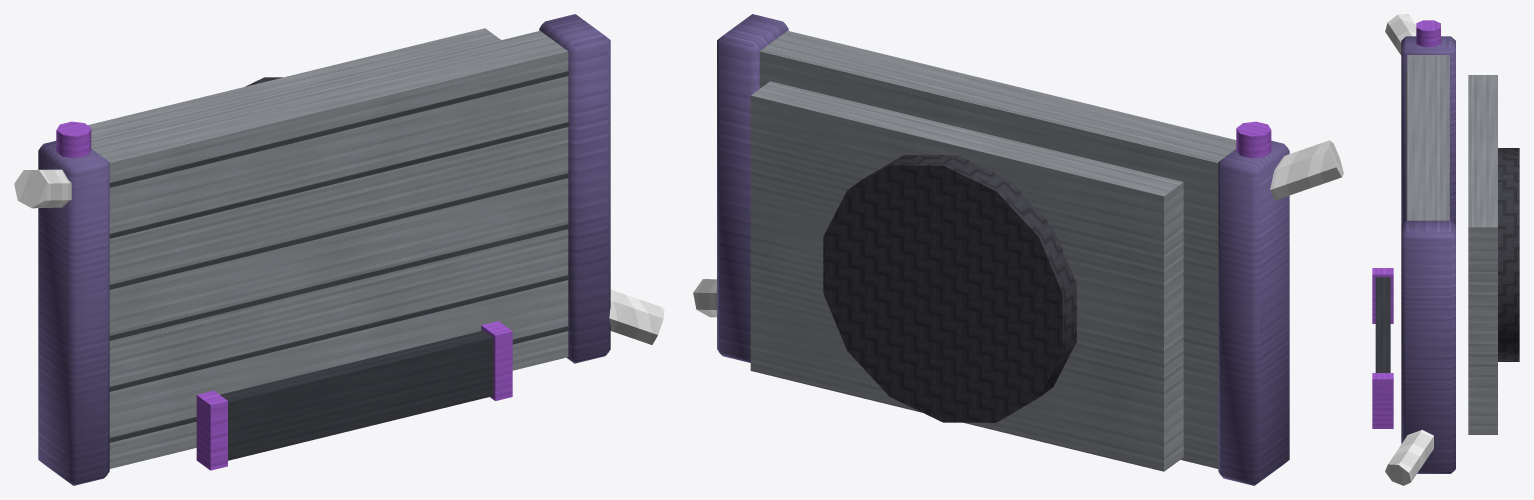
The model's file is radiador_n5.glb.
3 views of the same model, side by side, from view 1: azimuth 30°, elevation 25°; view 2: azimuth 150°, elevation 25°; view 3: azimuth 270°, elevation 25° (orthographic). The views are drawn at different scales.
Parts seen in each view (by area): view 1: radiador_n5; view 2: radiador_n5; view 3: radiador_n5.
Boxes of the visible parts, x1,y1,x2,y2 form: radiador_n5: (14,14,664,485); radiador_n5: (693,14,1343,485); radiador_n5: (1372,14,1519,485).
Bounding box in the file's own units: 0.9281 × 0.47 × 0.2425.
Materials: 4 (4 with a texture image).
